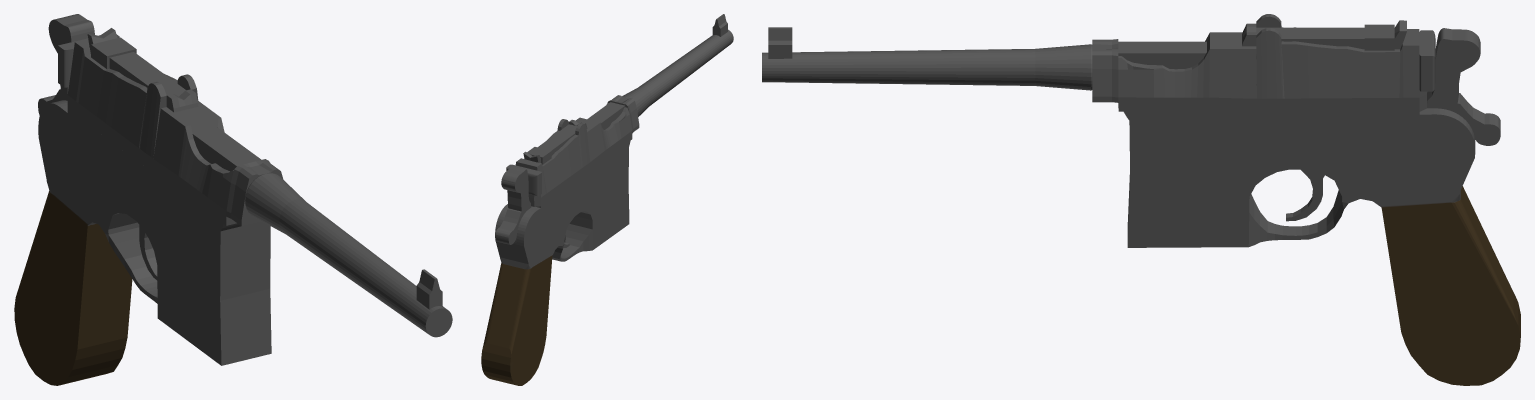
File: C96_pistol.fbx
The picture shows the model from 3 angles, left to right: view 1: azimuth 30°, elevation 25°; view 2: azimuth 150°, elevation 25°; view 3: azimuth 270°, elevation 25°; orthographic projection. The views are drawn at different scales.
Parts seen in each view (by area): view 1: Cylinder; view 2: Cylinder; view 3: Cylinder.
Part boxes in pixels (x1=…): Cylinder: x1=14, y1=14, x2=452, y2=385; Cylinder: x1=481, y1=14, x2=733, y2=385; Cylinder: x1=762, y1=14, x2=1520, y2=385.
Bounding box in the file's own units: 17.4 × 111 × 217.
1 material, 1 textured.
